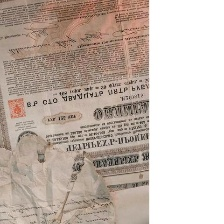news_paper: (0, 0, 151, 224)
